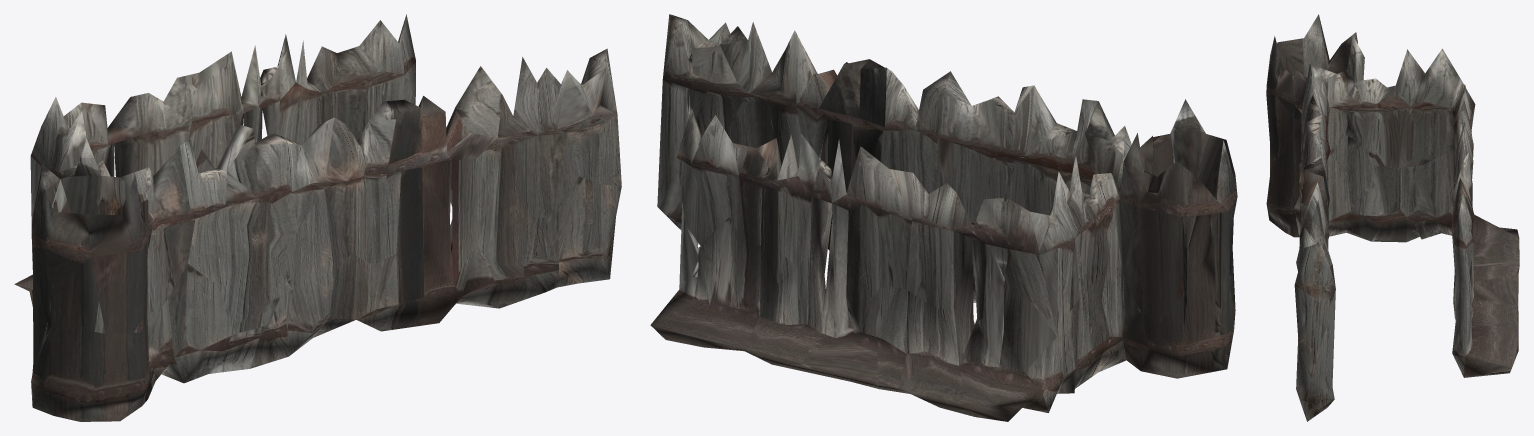
Rendered from palisade_e.glb.
3 renders of one model, left to right at view 1: azimuth 30°, elevation 25°; view 2: azimuth 150°, elevation 25°; view 3: azimuth 270°, elevation 25°, orthographic. The views are drawn at different scales.
Visible parts, largest first — view 1: mesh_node; view 2: mesh_node; view 3: mesh_node.
Part boxes in pixels (x1,y1,x2,y2): mesh_node: [14, 14, 621, 421]; mesh_node: [650, 14, 1237, 421]; mesh_node: [1266, 14, 1519, 421].
Bounding box in the file's own units: 1.88 × 0.7581 × 0.8871.
1 material, 1 textured.
